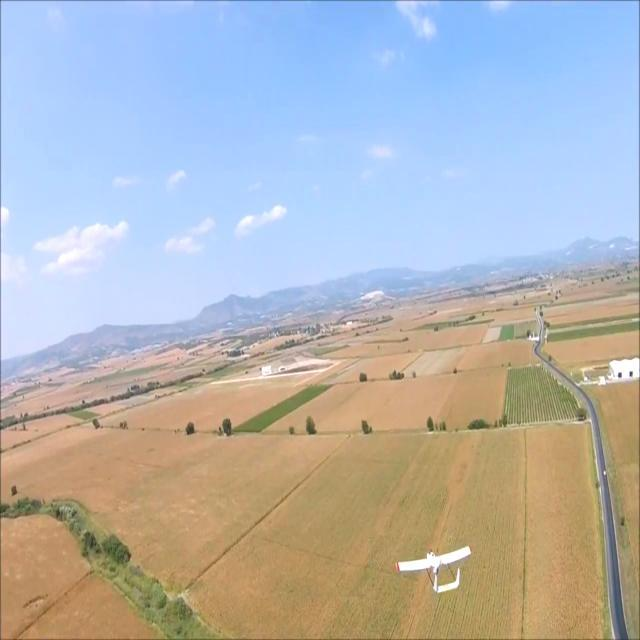iha: (425, 540, 445, 598)
